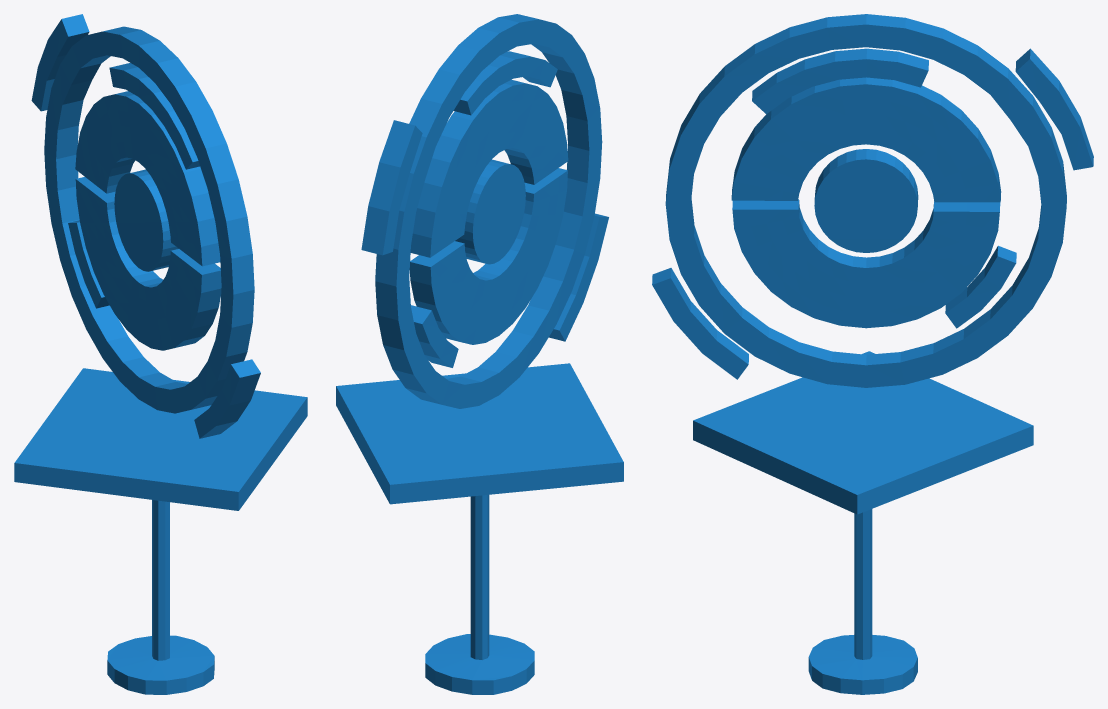
The model's file is openstop.obj.
3 views of the same model, side by side, from view 1: azimuth 30°, elevation 25°; view 2: azimuth 150°, elevation 25°; view 3: azimuth 270°, elevation 25° (orthographic). The views are drawn at different scales.
Visible parts, largest first — view 1: openstop; view 2: openstop; view 3: openstop.
Part boxes in pixels (box(x1,y1,x2,y2)): openstop: box(14, 14, 307, 694); openstop: box(336, 14, 623, 694); openstop: box(652, 14, 1093, 694).
Size of the model in its own units: 0.4742 by 1 by 0.6151.
